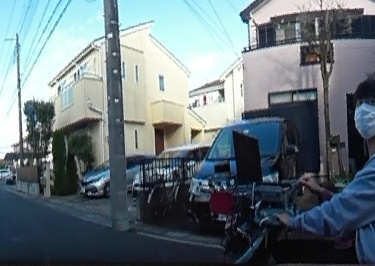person: (314, 78, 375, 263)
